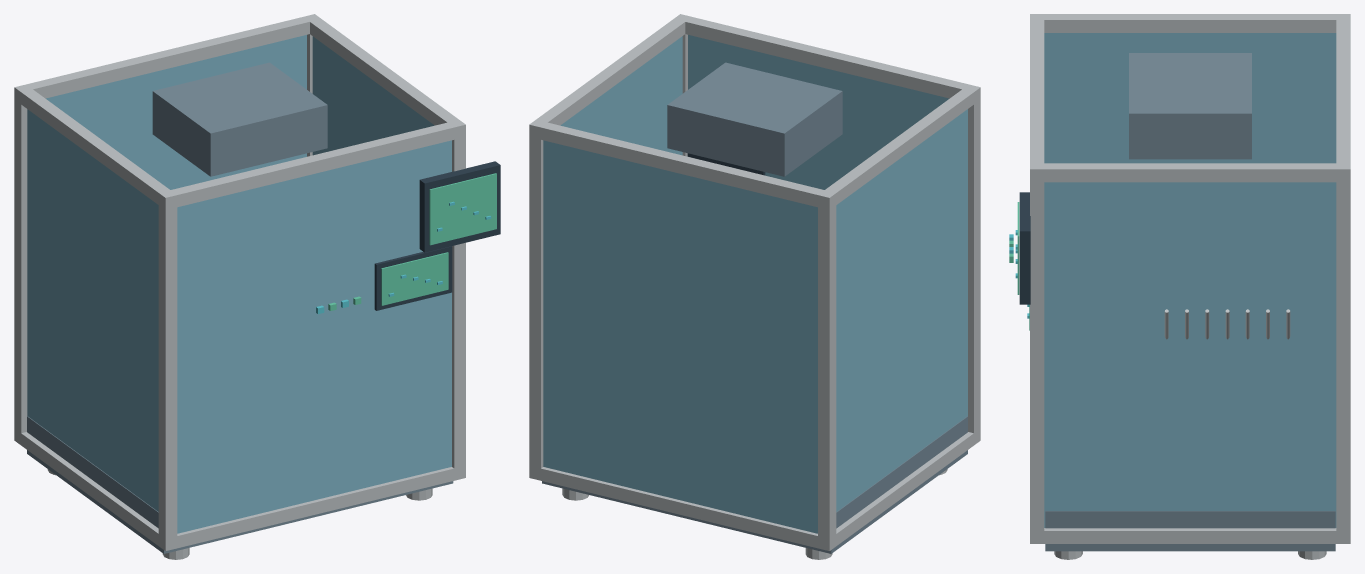
File: 10_L79_KnownGoodDieCertificateScanner.glb
3 views of the same model, side by side, from view 1: azimuth 30°, elevation 25°; view 2: azimuth 150°, elevation 25°; view 3: azimuth 270°, elevation 25° (orthographic). The views are drawn at different scales.
Visible parts, largest first — view 1: KnownGoodDieCertificateScanner_Node_0030, KnownGoodDieCertificateScanner_Node_0031, KnownGoodDieCertificateScanner_Node_0066, KnownGoodDieCertificateScanner_Node_0029, KnownGoodDieCertificateScanner_Node_0018, KnownGoodDieCertificateScanner_Node_0032, KnownGoodDieCertificateScanner_Node_0026, KnownGoodDieCertificateScanner_Node_0025, KnownGoodDieCertificateScanner_Node_0017, KnownGoodDieCertificateScanner_Node_0022, KnownGoodDieCertificateScanner_Node_0020, KnownGoodDieCertificateScanner_Node_0096 (+7 smaller); view 2: KnownGoodDieCertificateScanner_Node_0029, KnownGoodDieCertificateScanner_Node_0031, KnownGoodDieCertificateScanner_Node_0066, KnownGoodDieCertificateScanner_Node_0030, KnownGoodDieCertificateScanner_Node_0017, KnownGoodDieCertificateScanner_Node_0032, KnownGoodDieCertificateScanner_Node_0025, KnownGoodDieCertificateScanner_Node_0026, KnownGoodDieCertificateScanner_Node_0019, KnownGoodDieCertificateScanner_Node_0018, KnownGoodDieCertificateScanner_Node_0021, KnownGoodDieCertificateScanner_Node_0000 (+3 smaller); view 3: KnownGoodDieCertificateScanner_Node_0032, KnownGoodDieCertificateScanner_Node_0031, KnownGoodDieCertificateScanner_Node_0066, KnownGoodDieCertificateScanner_Node_0000, KnownGoodDieCertificateScanner_Node_0028, KnownGoodDieCertificateScanner_Node_0019, KnownGoodDieCertificateScanner_Node_0020, KnownGoodDieCertificateScanner_Node_0027, KnownGoodDieCertificateScanner_Node_0024, KnownGoodDieCertificateScanner_Node_0025, KnownGoodDieCertificateScanner_Node_0026, KnownGoodDieCertificateScanner_Node_0095.
Boxes of the visible parts, x1=… form: KnownGoodDieCertificateScanner_Node_0030: x1=177, y1=140, x2=451, y2=533; KnownGoodDieCertificateScanner_Node_0031: x1=27, y1=109, x2=158, y2=511; KnownGoodDieCertificateScanner_Node_0066: x1=152, y1=62, x2=327, y2=176; KnownGoodDieCertificateScanner_Node_0029: x1=45, y1=35, x2=306, y2=189; KnownGoodDieCertificateScanner_Node_0018: x1=158, y1=190, x2=177, y2=550; KnownGoodDieCertificateScanner_Node_0032: x1=312, y1=36, x2=434, y2=155; KnownGoodDieCertificateScanner_Node_0026: x1=158, y1=120, x2=464, y2=209; KnownGoodDieCertificateScanner_Node_0025: x1=14, y1=14, x2=320, y2=102; KnownGoodDieCertificateScanner_Node_0017: x1=14, y1=84, x2=31, y2=444; KnownGoodDieCertificateScanner_Node_0022: x1=158, y1=466, x2=465, y2=550; KnownGoodDieCertificateScanner_Node_0020: x1=448, y1=120, x2=465, y2=480; KnownGoodDieCertificateScanner_Node_0096: x1=429, y1=173, x2=496, y2=245; KnownGoodDieCertificateScanner_Node_0029: x1=543, y1=140, x2=817, y2=533; KnownGoodDieCertificateScanner_Node_0031: x1=836, y1=109, x2=967, y2=511; KnownGoodDieCertificateScanner_Node_0066: x1=667, y1=62, x2=842, y2=176; KnownGoodDieCertificateScanner_Node_0030: x1=688, y1=35, x2=949, y2=189; KnownGoodDieCertificateScanner_Node_0017: x1=818, y1=190, x2=836, y2=550; KnownGoodDieCertificateScanner_Node_0032: x1=560, y1=36, x2=682, y2=155; KnownGoodDieCertificateScanner_Node_0025: x1=529, y1=120, x2=836, y2=209; KnownGoodDieCertificateScanner_Node_0026: x1=675, y1=14, x2=980, y2=103; KnownGoodDieCertificateScanner_Node_0019: x1=529, y1=119, x2=546, y2=480; KnownGoodDieCertificateScanner_Node_0018: x1=966, y1=84, x2=980, y2=445; KnownGoodDieCertificateScanner_Node_0021: x1=529, y1=466, x2=836, y2=550; KnownGoodDieCertificateScanner_Node_0000: x1=542, y1=416, x2=967, y2=553; KnownGoodDieCertificateScanner_Node_0032: x1=1044, y1=182, x2=1336, y2=527; KnownGoodDieCertificateScanner_Node_0031: x1=1044, y1=33, x2=1336, y2=163; KnownGoodDieCertificateScanner_Node_0066: x1=1129, y1=53, x2=1251, y2=159; KnownGoodDieCertificateScanner_Node_0000: x1=1045, y1=511, x2=1335, y2=551; KnownGoodDieCertificateScanner_Node_0028: x1=1030, y1=163, x2=1350, y2=182; KnownGoodDieCertificateScanner_Node_0019: x1=1336, y1=163, x2=1350, y2=543; KnownGoodDieCertificateScanner_Node_0020: x1=1030, y1=163, x2=1044, y2=543; KnownGoodDieCertificateScanner_Node_0027: x1=1030, y1=14, x2=1350, y2=32; KnownGoodDieCertificateScanner_Node_0024: x1=1030, y1=528, x2=1350, y2=543; KnownGoodDieCertificateScanner_Node_0025: x1=1336, y1=14, x2=1350, y2=181; KnownGoodDieCertificateScanner_Node_0026: x1=1030, y1=14, x2=1044, y2=182; KnownGoodDieCertificateScanner_Node_0095: x1=1019, y1=192, x2=1030, y2=304.
Size of the model in its own units: 2.39 by 2.67 by 2.02.
